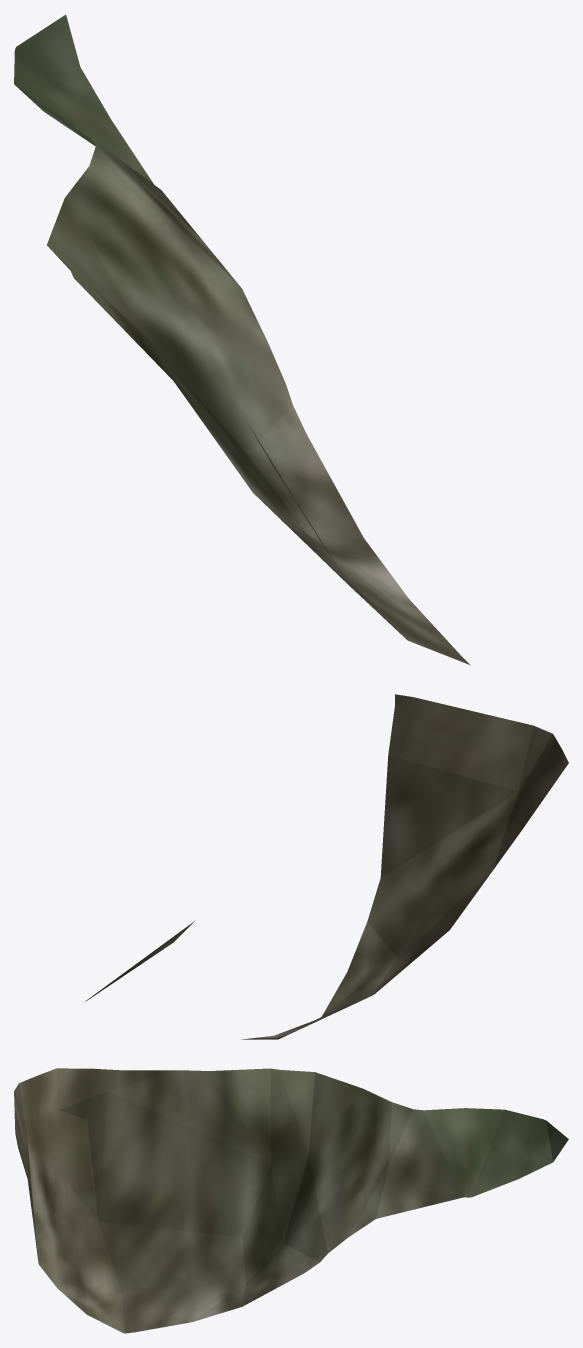
3 views of the same model, one above another, from view 1: azimuth 30°, elevation 25°; view 2: azimuth 150°, elevation 25°; view 3: azimuth 270°, elevation 25° (orthographic). The views are drawn at different scales.
Bounding box in the file's own units: 0.4872 × 0.6231 × 1.61.
1 material, 1 textured.
